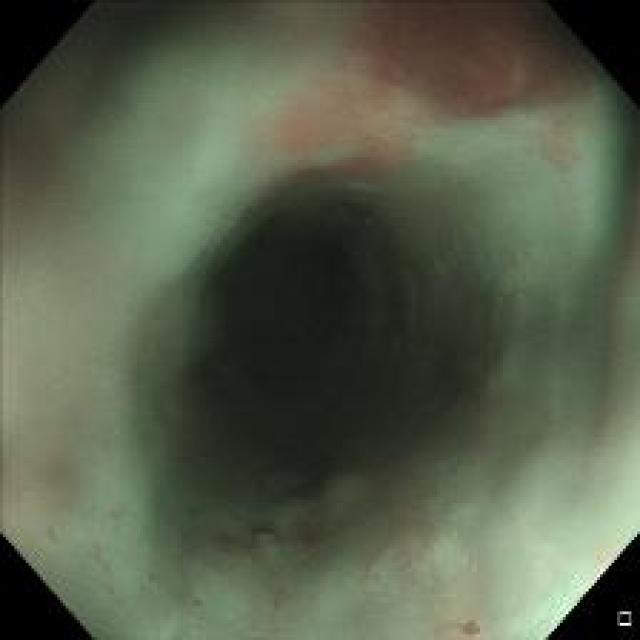blur: (76, 54, 588, 591)
contrast: (201, 180, 476, 494)
